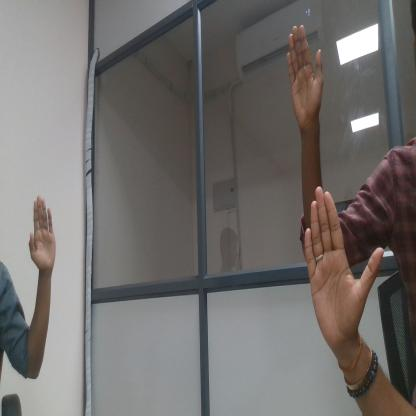Stop: (292, 177, 390, 357), (280, 17, 340, 136), (21, 188, 67, 300)
